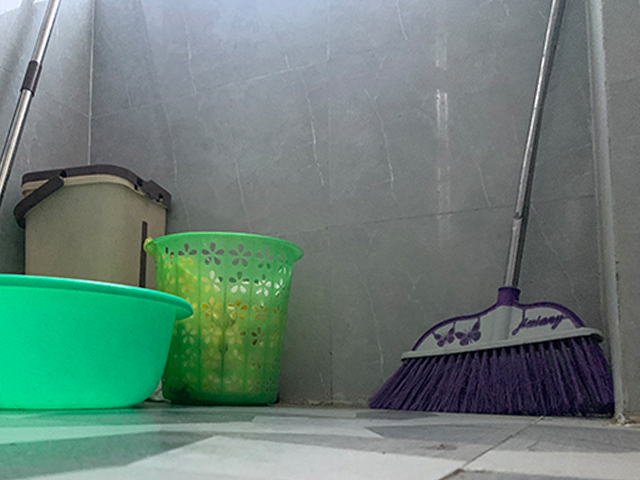trashcan: (141, 230, 305, 406)
